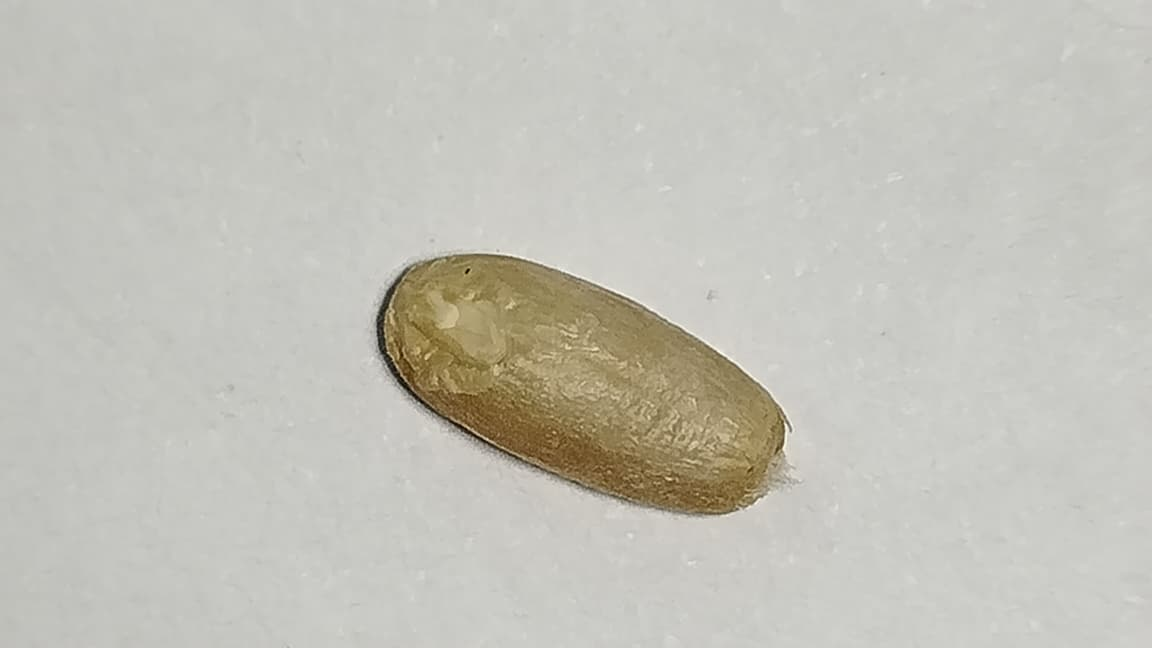healthy: (381, 254, 787, 512)
